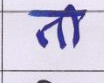i_matra: (65, 4, 81, 46)
